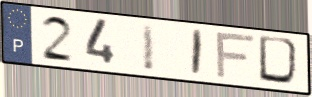2: (38, 14, 76, 64)
4: (83, 16, 121, 70)
D: (257, 33, 304, 88)
F: (214, 32, 259, 81)
I: (139, 22, 157, 73), (190, 27, 206, 78)
